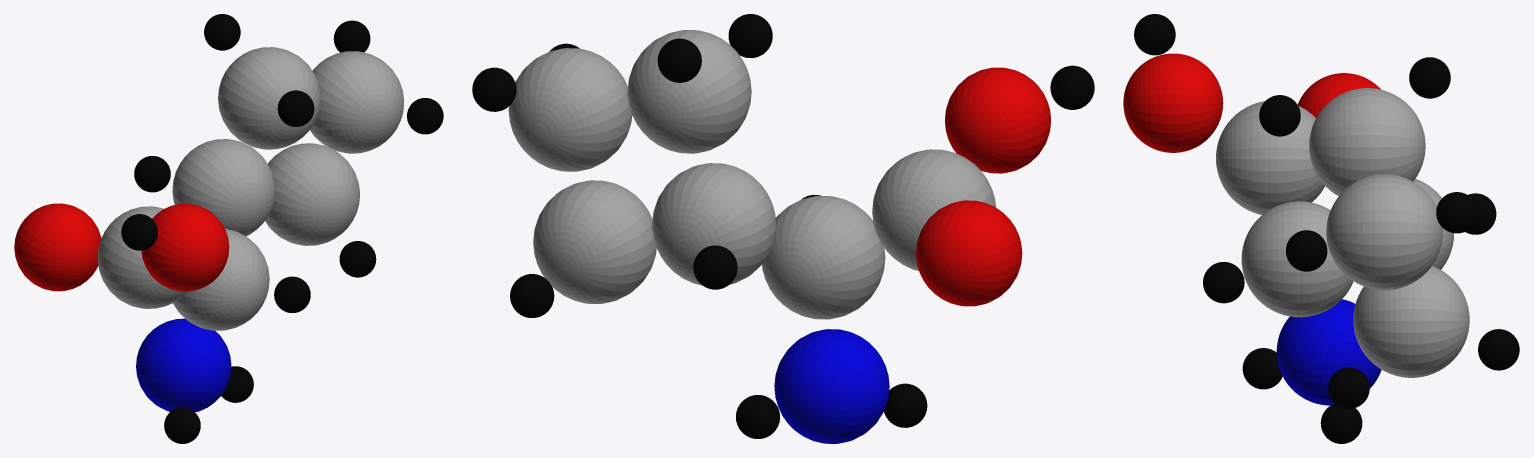
File: Proline.glb
3 views of the same model, side by side, from view 1: azimuth 30°, elevation 25°; view 2: azimuth 150°, elevation 25°; view 3: azimuth 270°, elevation 25° (orthographic). The views are drawn at different scales.
Visible parts, largest first — view 1: world; view 2: world; view 3: world.
Boxes of the visible parts, x1=… form: world: x1=14, y1=14, x2=443, y2=443; world: x1=472, y1=14, x2=1094, y2=443; world: x1=1123, y1=14, x2=1519, y2=443.
Size of the model in its own units: 6.36 by 5.27 by 4.76.
